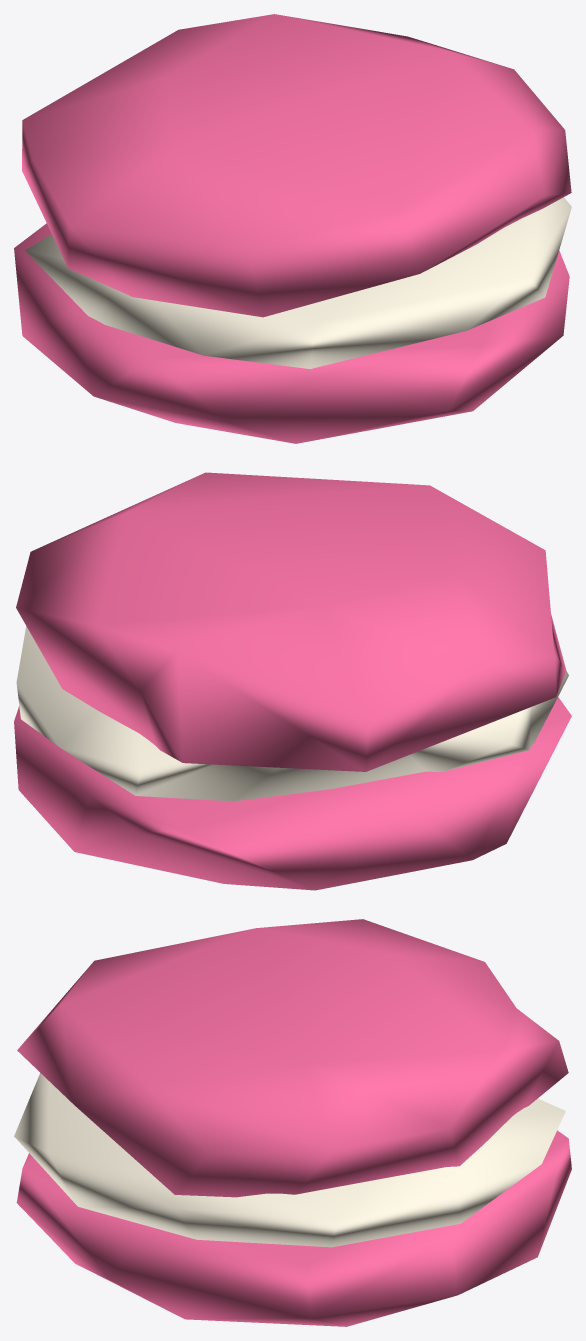
File: macaron_LOD2.fbx
3 renders of one model, top to bottom at view 1: azimuth 30°, elevation 25°; view 2: azimuth 150°, elevation 25°; view 3: azimuth 270°, elevation 25°, orthographic. The views are drawn at different scales.
Visible parts, largest first — view 1: Cube_008; view 2: Cube_008; view 3: Cube_008.
Part boxes in pixels (left/top/right/bottom): Cube_008: left=14, top=14, right=571, bottom=443; Cube_008: left=14, top=472, right=571, bottom=890; Cube_008: left=14, top=919, right=571, bottom=1326.
Size of the model in its own units: 21.3 by 11.62 by 21.56.
2 materials, 2 textured.
